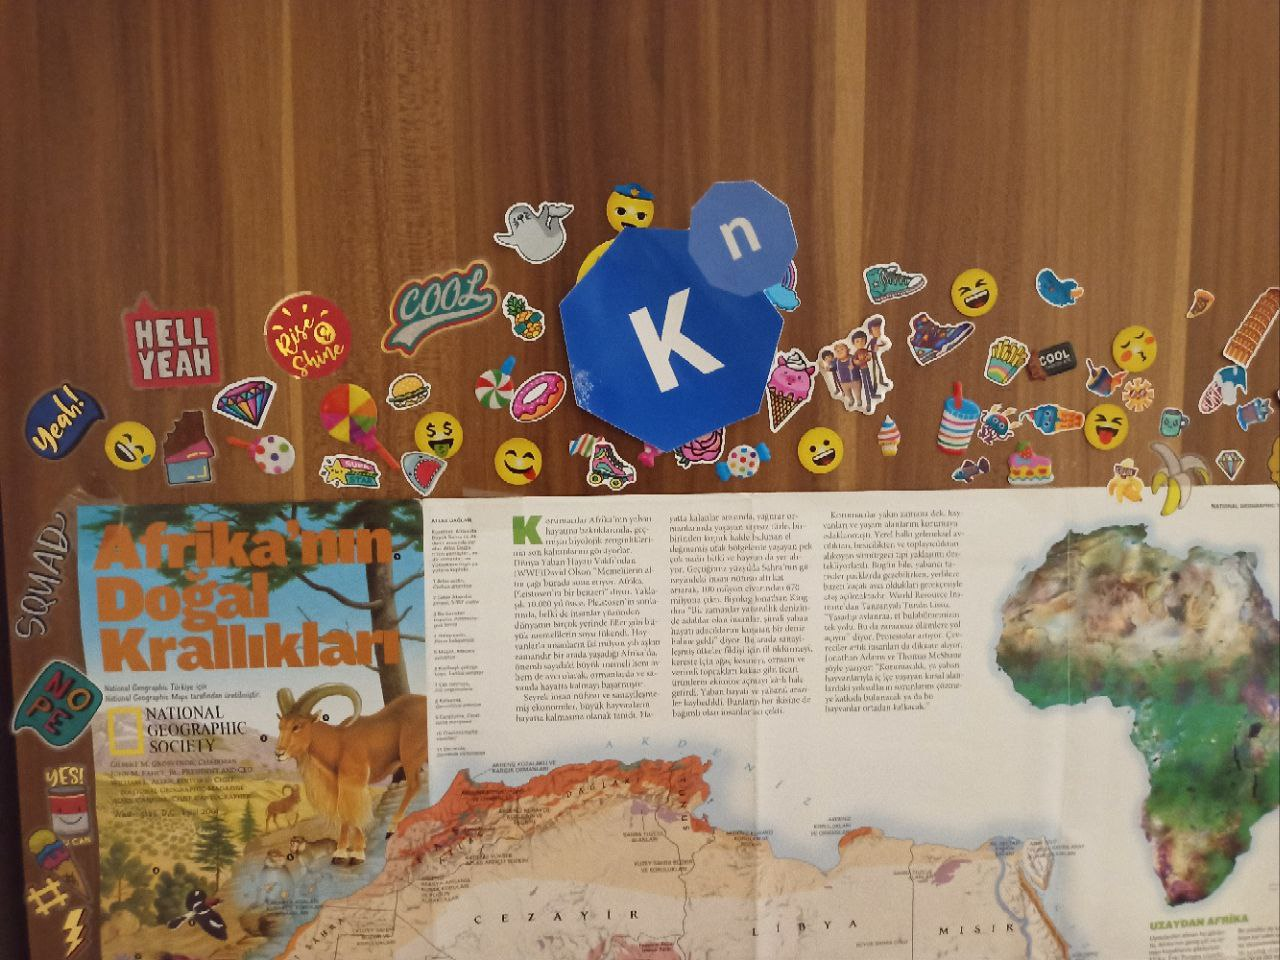knative: (558, 179, 800, 453)
